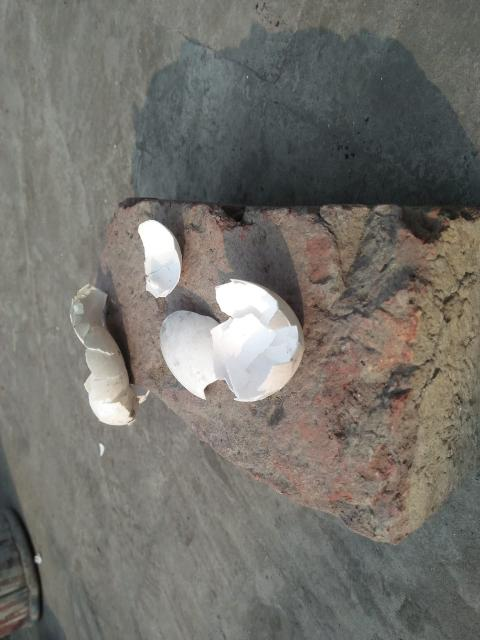Roto: (160, 279, 306, 403), (68, 283, 148, 426), (137, 216, 183, 298)
